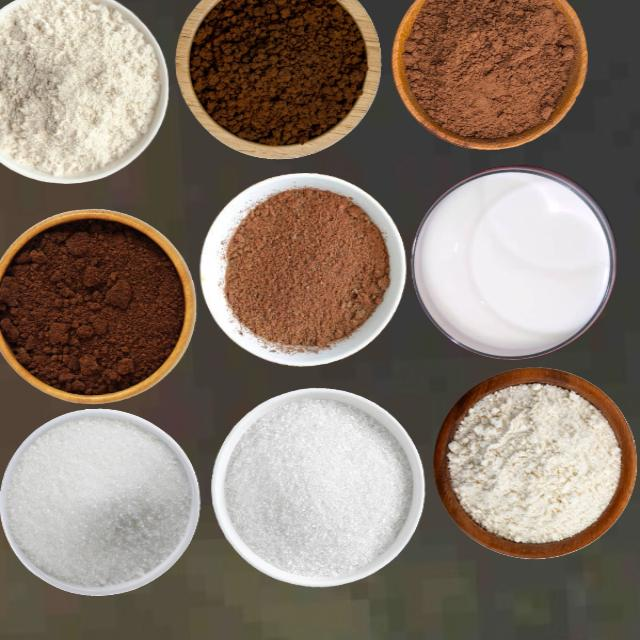Cocoa: (391, 0, 586, 143), (223, 186, 390, 352)
Coffee: (0, 215, 187, 397), (188, 0, 367, 146)
Flour: (446, 381, 621, 544), (0, 0, 159, 176)
Sugar: (223, 397, 412, 577), (3, 416, 191, 587)
